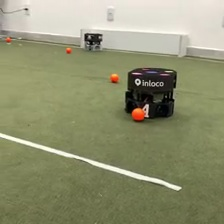ball: (130, 105, 147, 123), (109, 71, 120, 82), (64, 45, 72, 54), (5, 35, 12, 43)
goal: (79, 27, 190, 58)
robot: (123, 65, 178, 120), (82, 31, 104, 53)
